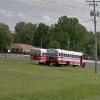Bus: (29, 44, 83, 69)
